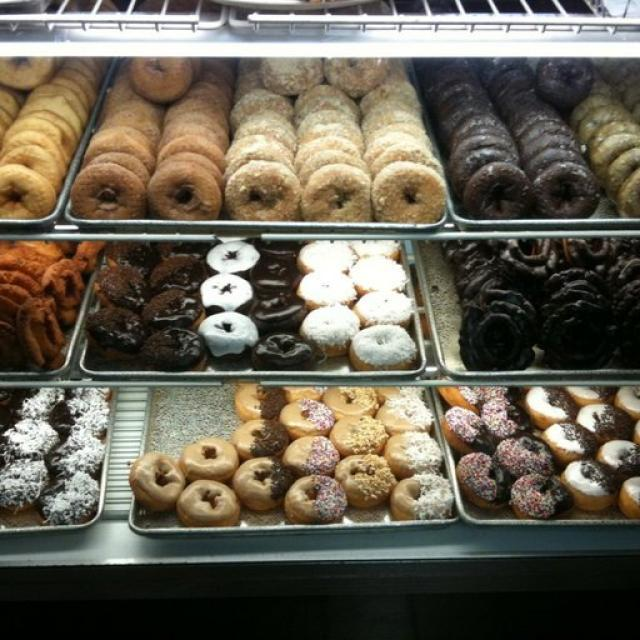Donuts: (5, 23, 640, 527)
